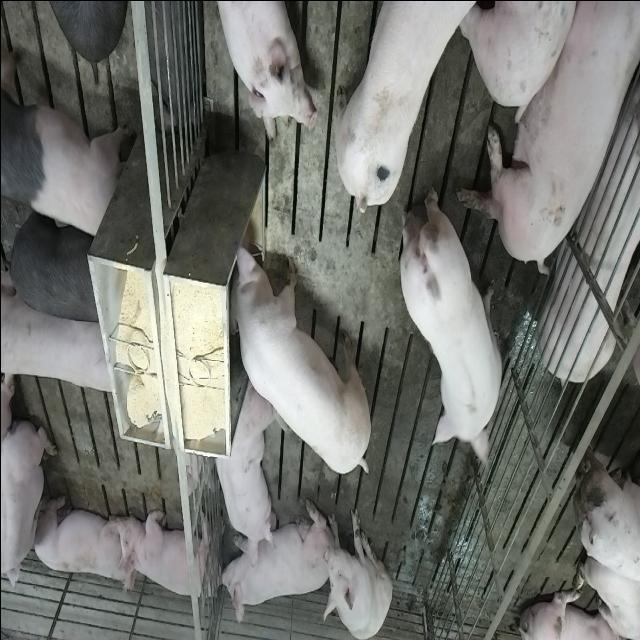Feeding: (219, 234, 368, 476)
Lateral_lying: (456, 0, 638, 272), (538, 57, 640, 384)
Sitting: (320, 503, 391, 638)
Standing: (329, 2, 502, 216), (400, 180, 506, 468), (3, 269, 122, 399), (32, 76, 125, 240), (4, 206, 101, 326)
Sternal_lying: (207, 0, 310, 138), (216, 501, 326, 627), (210, 382, 275, 558), (2, 414, 56, 598), (31, 492, 130, 588), (120, 506, 214, 602)
